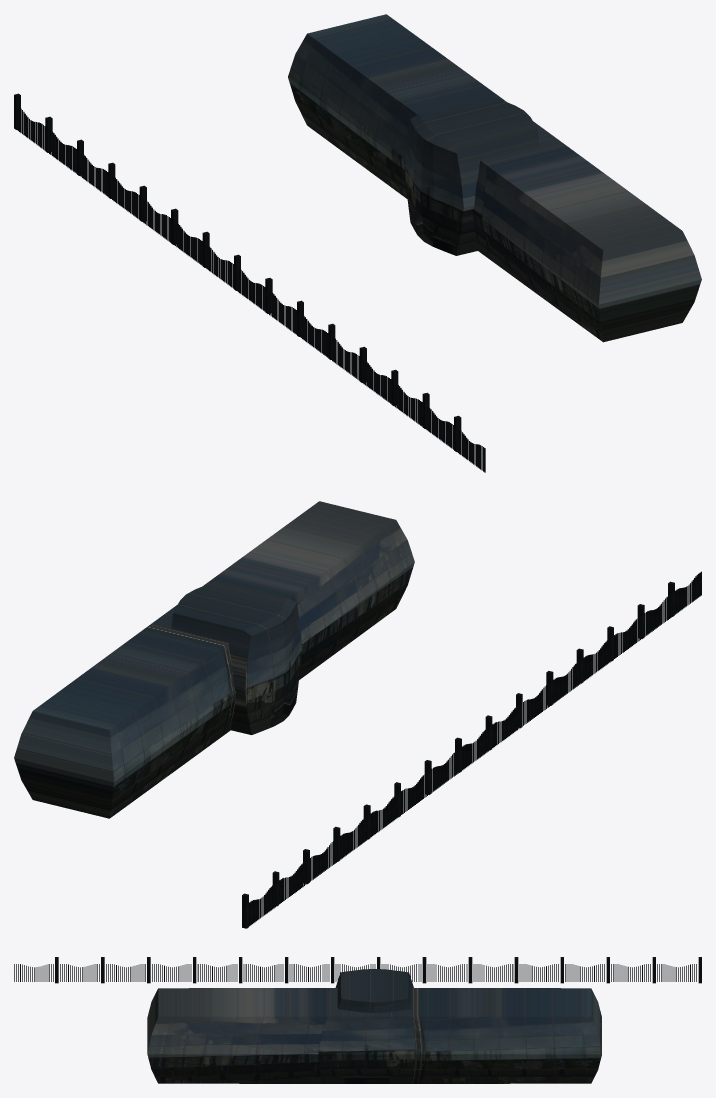
File: ЧерноеЗдание.glb
3 views of the same model, one above another, from view 1: azimuth 30°, elevation 25°; view 2: azimuth 150°, elevation 25°; view 3: azimuth 270°, elevation 25° (orthographic). The views are drawn at different scales.
Visible parts, largest first — view 1: ЧерноеЗдание, Cube.006; view 2: ЧерноеЗдание, Cube.006; view 3: ЧерноеЗдание, Cube.006.
Boxes of the visible parts, <box> form: ЧерноеЗдание: <box>288,14,701,342</box>; Cube.006: <box>14,93,485,472</box>; ЧерноеЗдание: <box>14,501,414,818</box>; Cube.006: <box>242,571,701,928</box>; ЧерноеЗдание: <box>147,969,601,1083</box>; Cube.006: <box>14,957,701,983</box>.
Bounding box in the file's own units: 25.26 × 8.73 × 66.7.
1 material, 1 textured.
